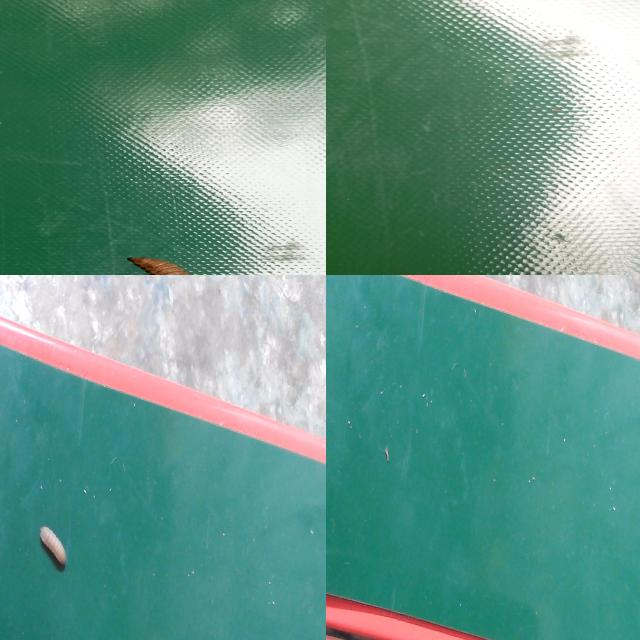Maggot: (40, 528, 69, 573), (129, 258, 192, 275)
